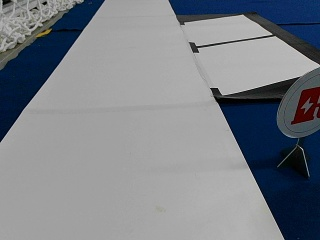battery: (277, 67, 319, 139)
